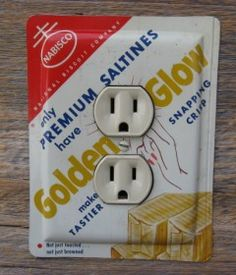outlet: (105, 95, 141, 135), (107, 163, 140, 202)
